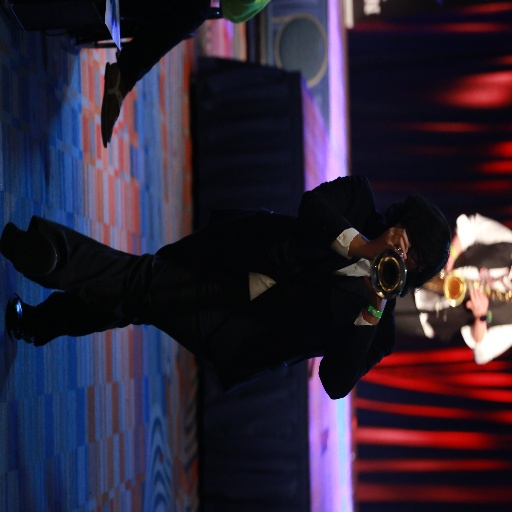hand: (368, 226, 407, 259), (465, 287, 488, 316), (365, 277, 384, 304), (443, 251, 454, 273)
